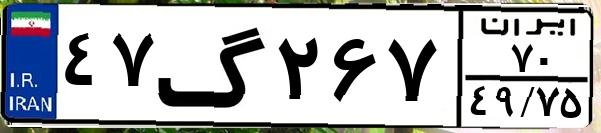0: (537, 27, 568, 80)
2: (270, 28, 330, 110)
4: (57, 26, 110, 100), (470, 70, 495, 125)
5: (560, 70, 590, 125)
6: (330, 28, 385, 110)
7: (385, 28, 445, 110), (110, 28, 156, 98), (508, 27, 537, 80), (535, 70, 560, 125)
9: (495, 70, 520, 125)
گ: (156, 12, 270, 120)
